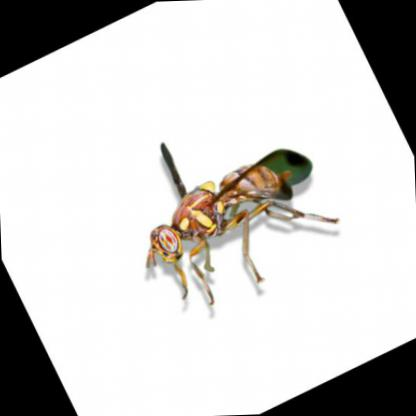fruit fly: (149, 143, 341, 285)
